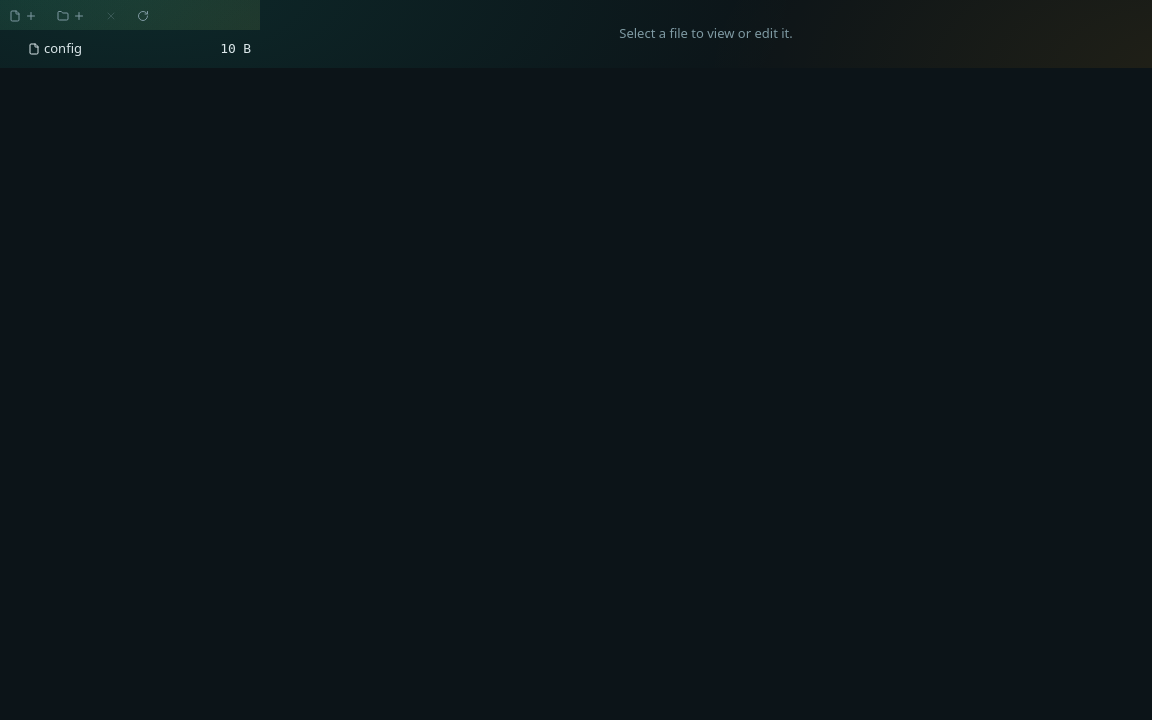
Scenario: ExplorerView › writes nothing when that warning is cancelled
Expected: the text "config" is shown, [44,39,82,57]
Click the button with test id "explorer-item".
click(63, 48)  # box [0,32,260,64]
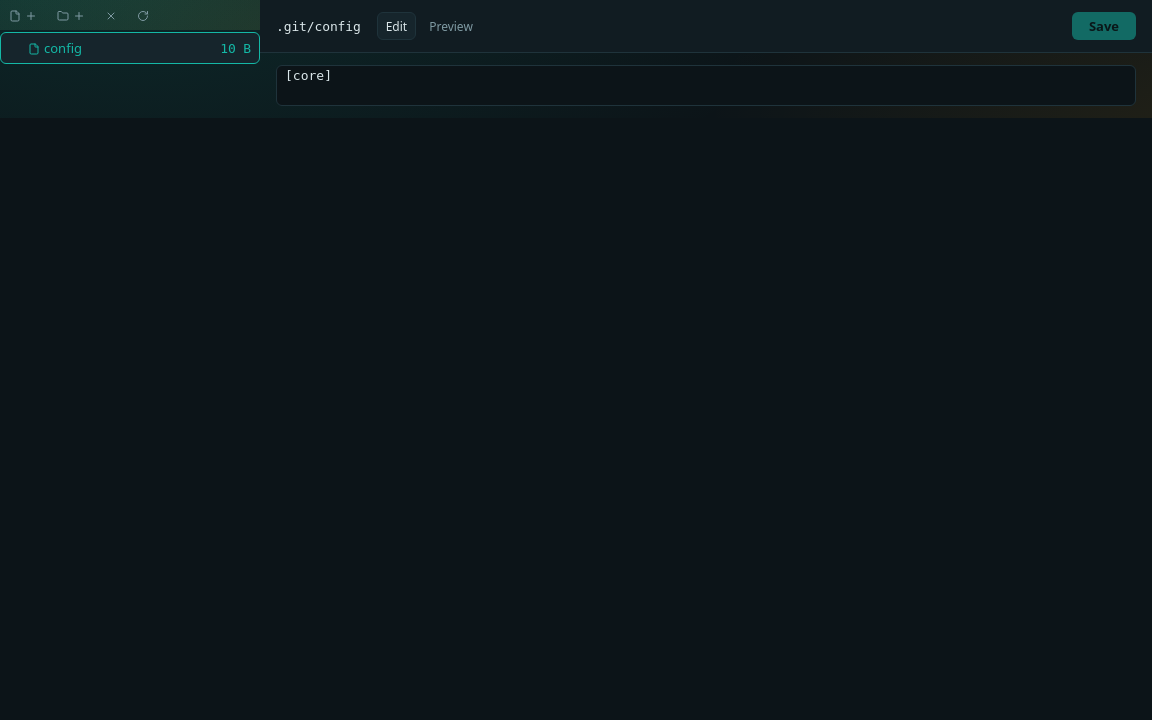
Result: the text box is shown
Replace the text in the text box with "[core] changed" at (706, 86), box [276,65,1136,106]
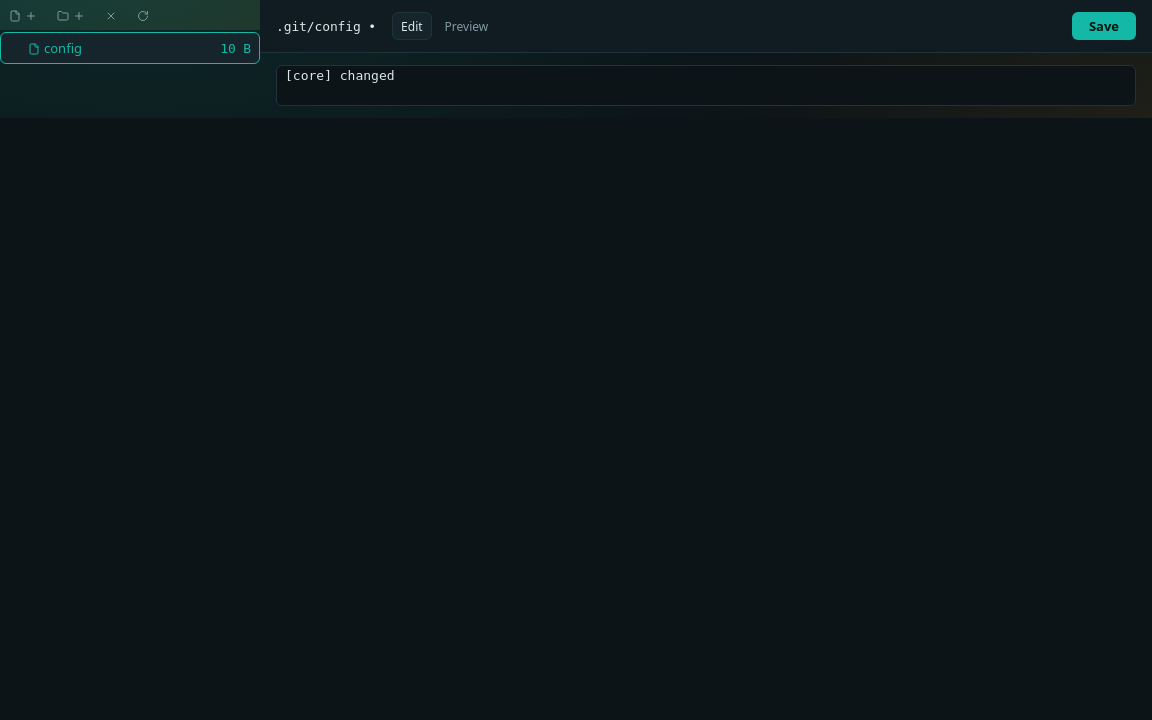
Click the button "Save".
click(1104, 26)  # box [1072,12,1136,40]
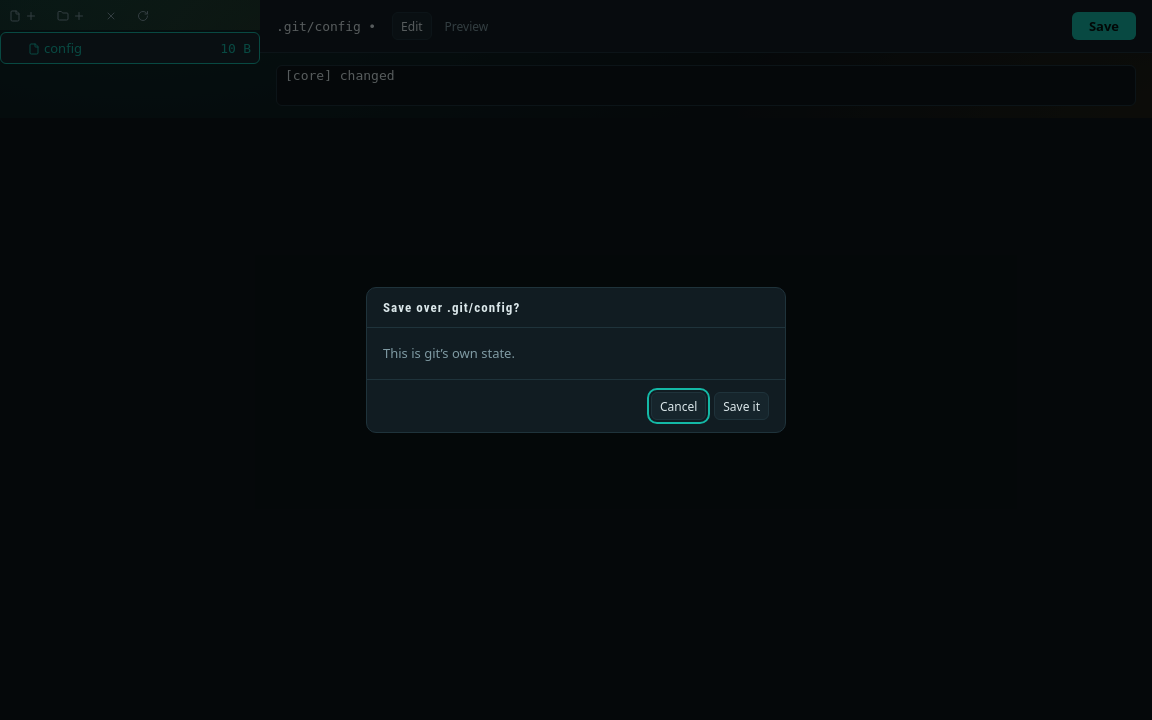
Result: the dialog is shown at [366,287,786,433]
Click the button "Cancel".
click(679, 406)  # box [651,392,706,420]
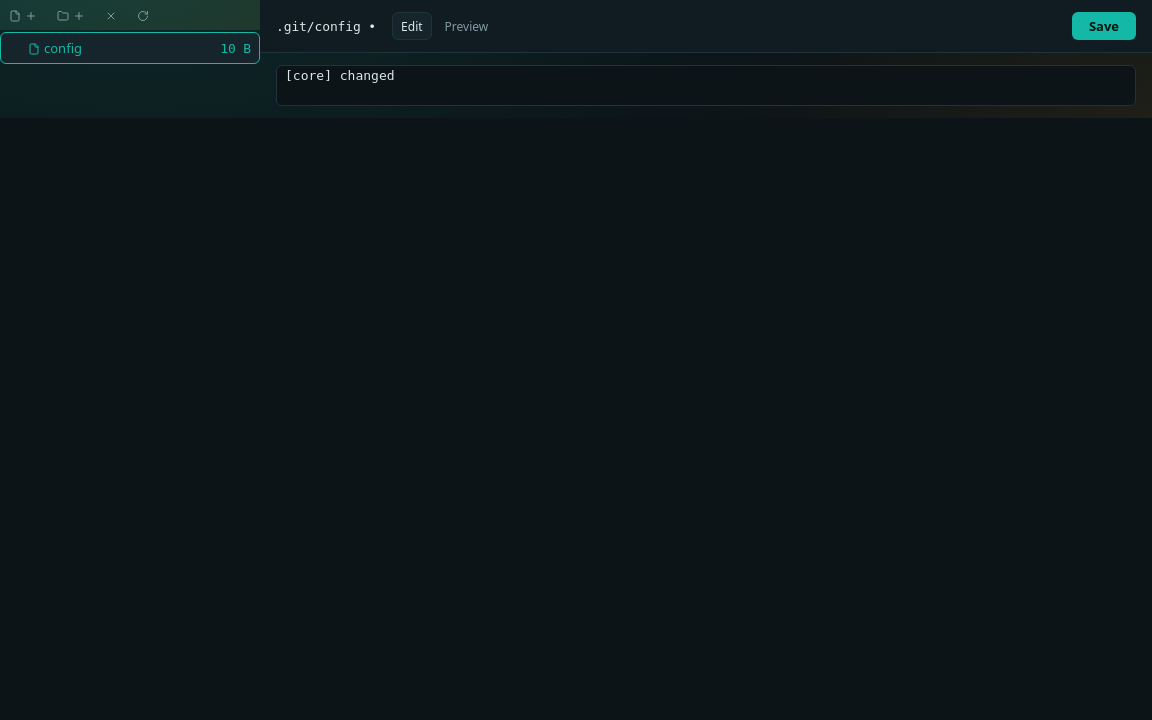
Result: the button "Save" is enabled at [1072,12,1136,40]
Result: the dialog is gone
